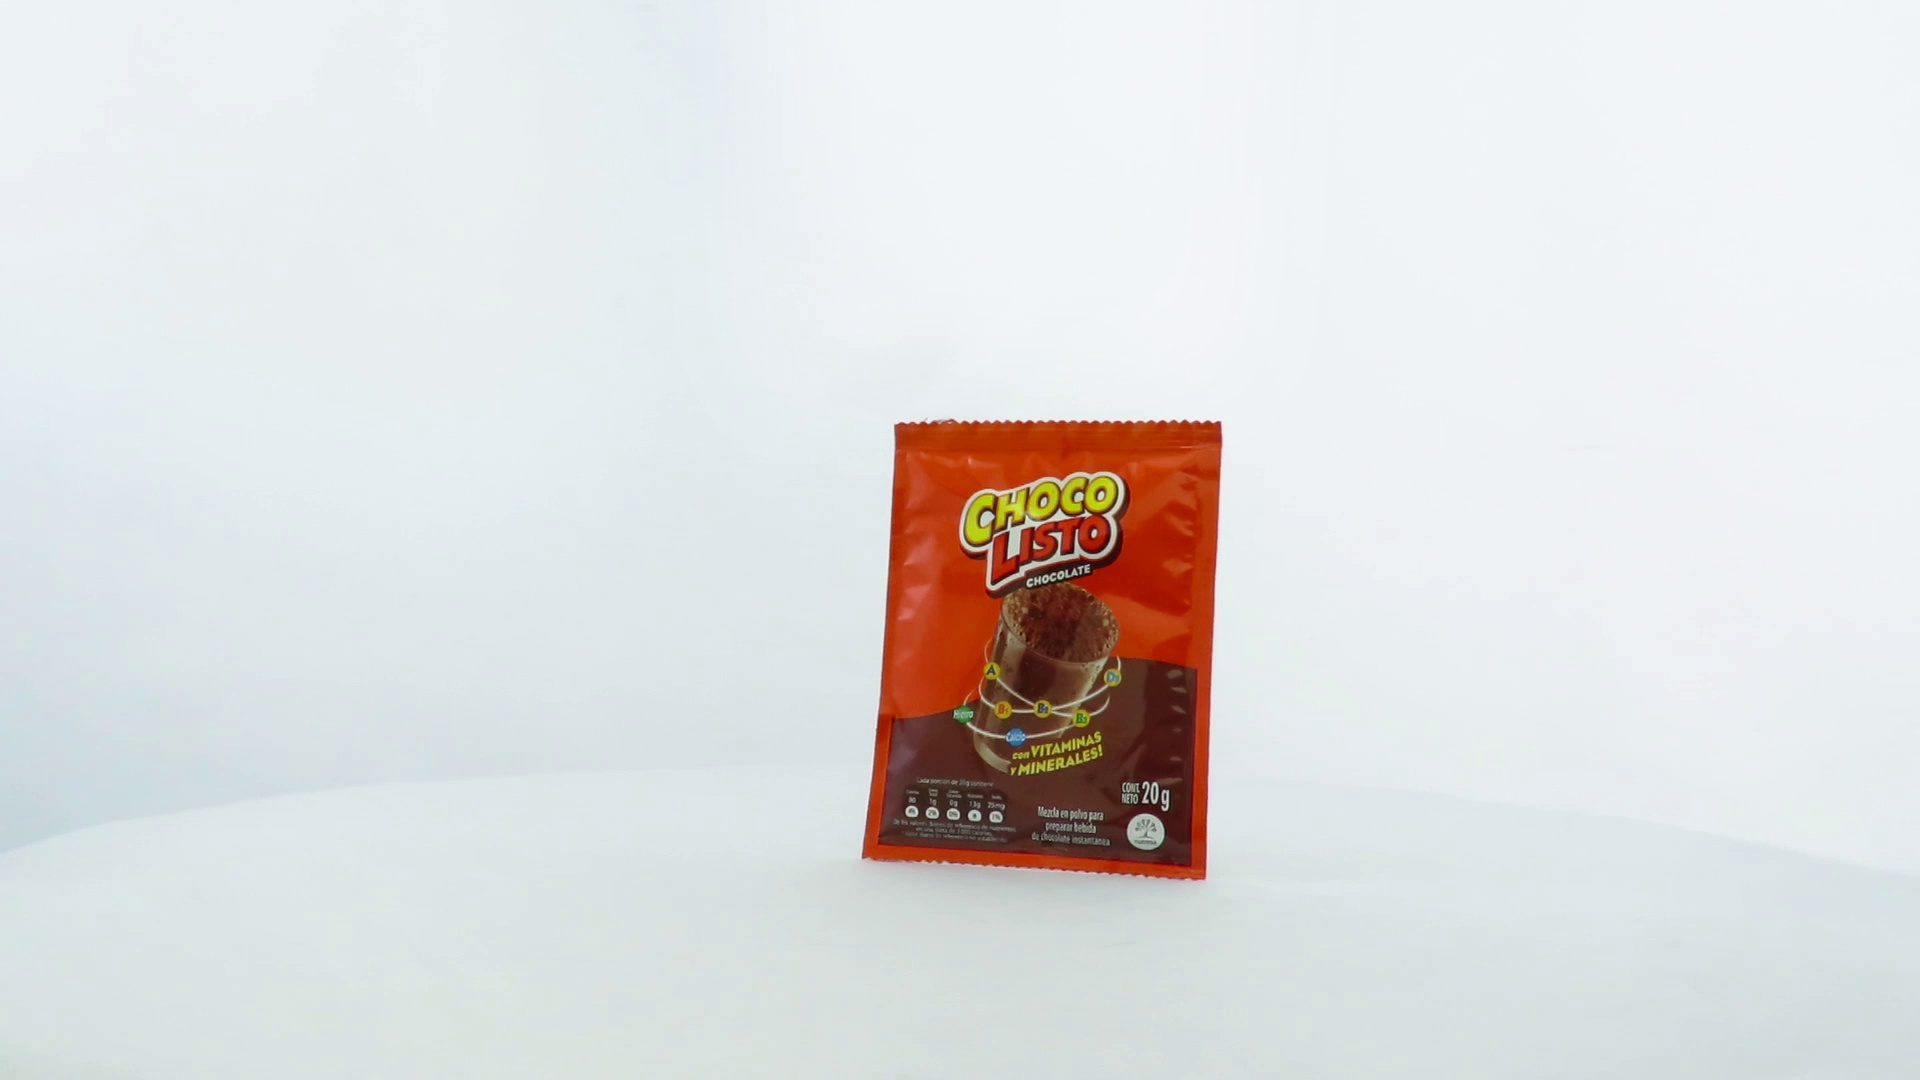COL0170103SOB02000: (856, 411, 1229, 887)
